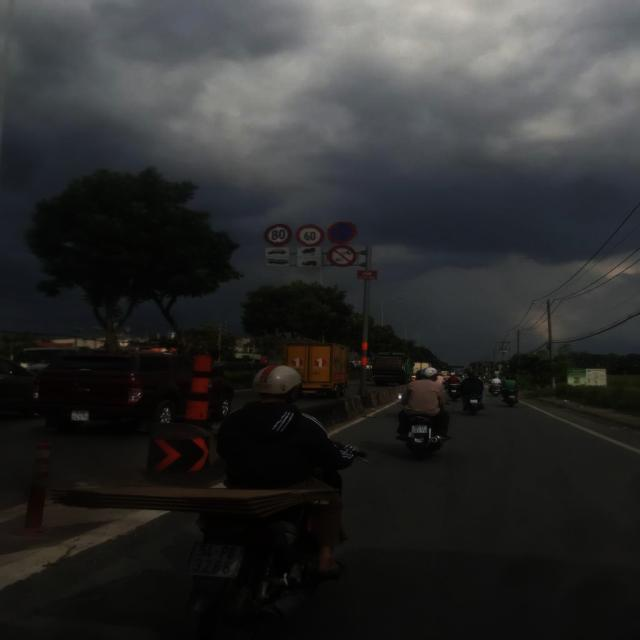127-toc-do-toi-da-60: (296, 222, 324, 245)
127-toc-do-toi-da-80: (264, 223, 292, 245)
130-cam-dung-va-do-xe: (327, 222, 358, 244)
